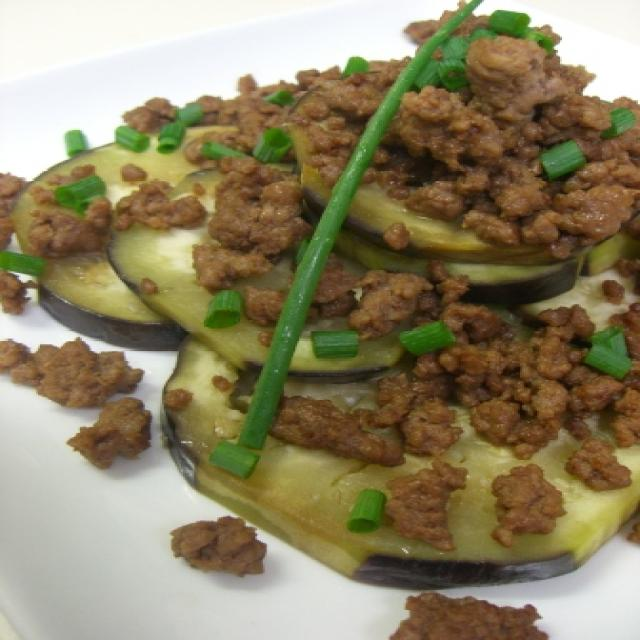鸡蛋料理: (0, 60, 640, 573)
